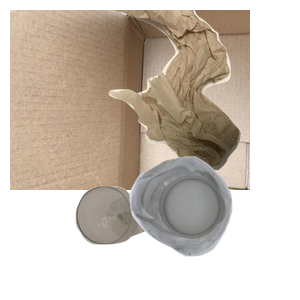cardboard: (10, 10, 250, 190)
glass: (73, 184, 214, 300)
plastic: (127, 154, 300, 300)
trash: (103, 10, 300, 173)
